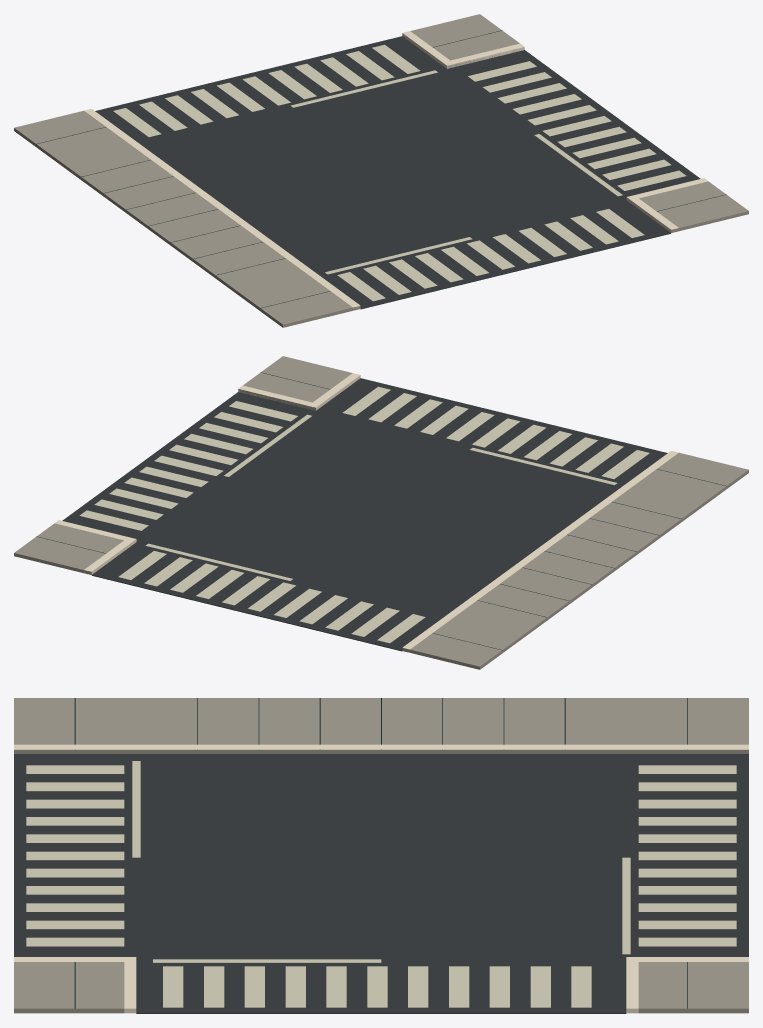
Rendered from oc_road_tjunction_01.glb.
The picture shows the model from 3 angles, top to bottom: view 1: azimuth 30°, elevation 25°; view 2: azimuth 150°, elevation 25°; view 3: azimuth 270°, elevation 25°; orthographic projection. The views are drawn at different scales.
Visible parts, largest first — view 1: LOD1_OC_Asphalt, LOD1_OC_Concrete, LOD1_OC_Line_White, LOD1_OC_Stucco_Ivory, LOD1_OC_Charcoal; view 2: LOD1_OC_Asphalt, LOD1_OC_Concrete, LOD1_OC_Line_White, LOD1_OC_Stucco_Ivory, LOD1_OC_Charcoal; view 3: LOD1_OC_Asphalt, LOD1_OC_Concrete, LOD1_OC_Line_White, LOD1_OC_Stucco_Ivory, LOD1_OC_Charcoal.
Boxes of the visible parts, x1,y1,x2,y2 form: LOD1_OC_Asphalt: [95, 36, 700, 309]; LOD1_OC_Concrete: [14, 14, 748, 327]; LOD1_OC_Line_White: [113, 44, 686, 301]; LOD1_OC_Stucco_Ivory: [84, 31, 708, 310]; LOD1_OC_Charcoal: [36, 30, 726, 308]; LOD1_OC_Asphalt: [62, 378, 667, 651]; LOD1_OC_Concrete: [14, 356, 748, 669]; LOD1_OC_Line_White: [79, 386, 649, 643]; LOD1_OC_Stucco_Ivory: [54, 373, 678, 651]; LOD1_OC_Charcoal: [36, 372, 726, 650]; LOD1_OC_Asphalt: [14, 754, 748, 1013]; LOD1_OC_Concrete: [14, 698, 748, 1013]; LOD1_OC_Line_White: [26, 761, 736, 1007]; LOD1_OC_Stucco_Ivory: [14, 744, 748, 1013]; LOD1_OC_Charcoal: [74, 698, 687, 1008].
Size of the model in its own units: 18 by 0.1431 by 18.
